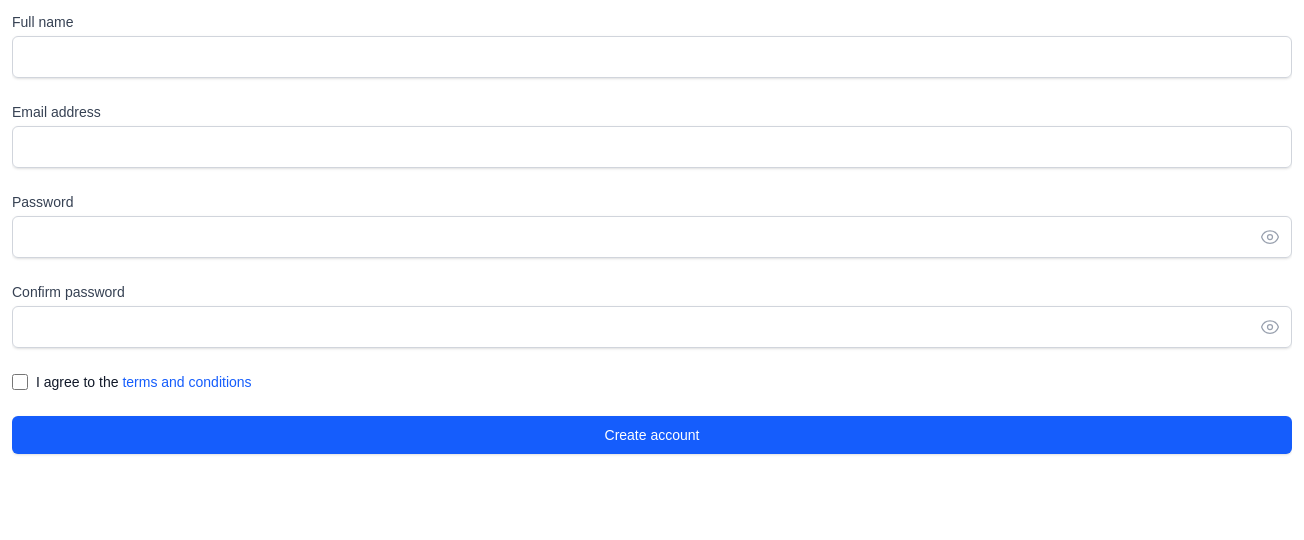
Test: RegisterForm › should require terms and conditions acceptance
# Fill form but don't check terms
Type "John Doe" into the field labelled "Full name". click: (652, 57)
box: [12,36,1292,78]
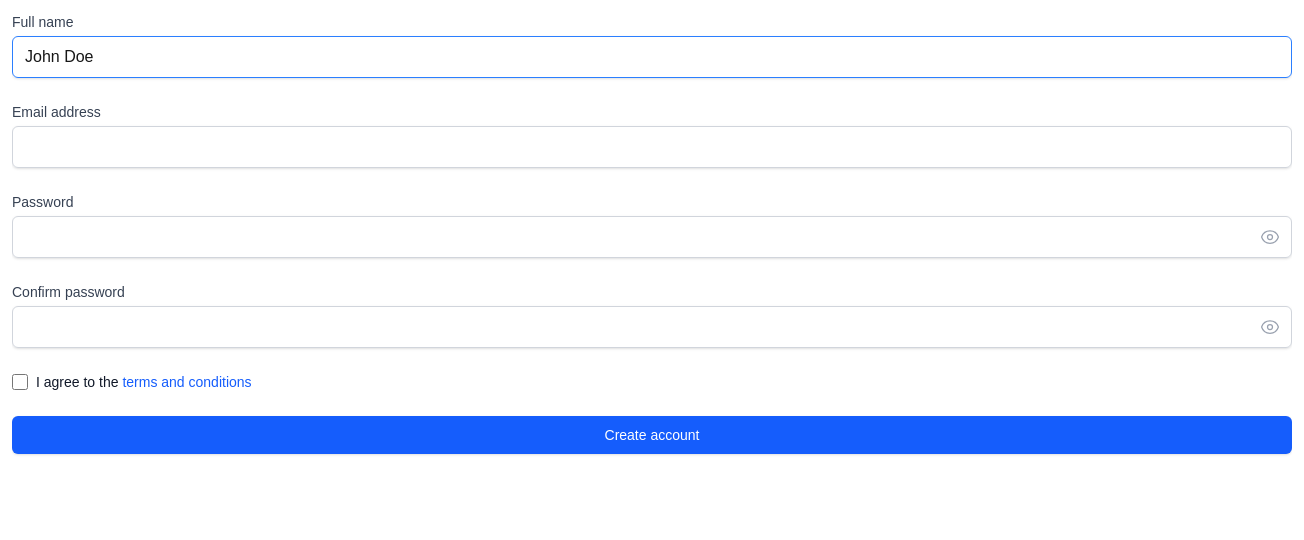
Type "john@example.com" into the field labelled "Email address". click: (652, 147)
box: [12,126,1292,168]
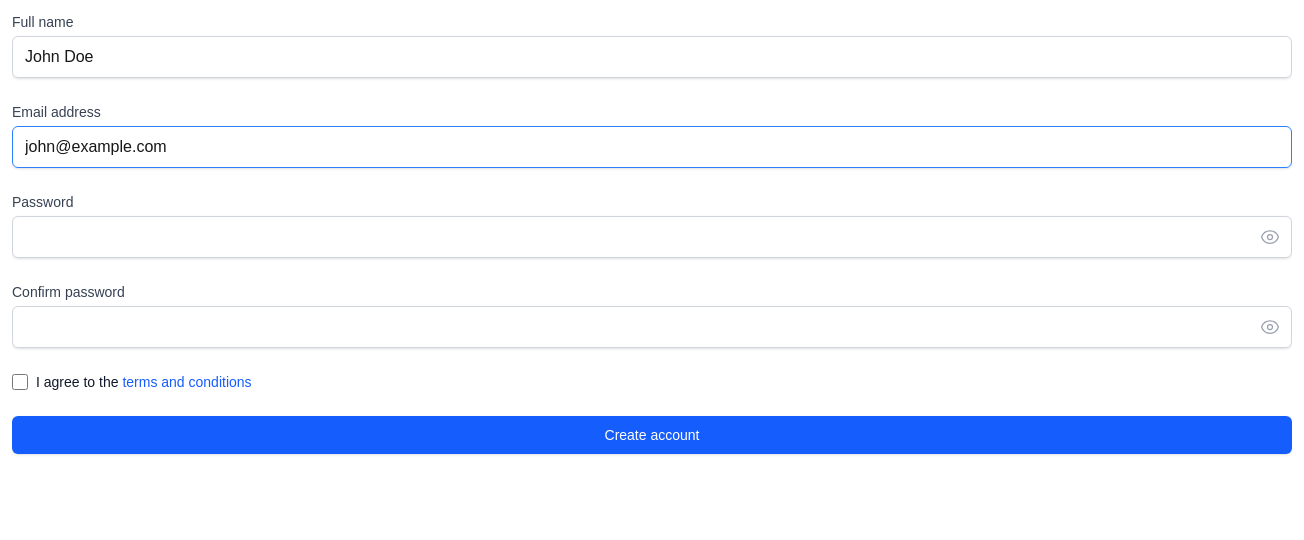
Type "password123" into the password field labelled "Password". click: (652, 237)
box: [12,216,1292,258]
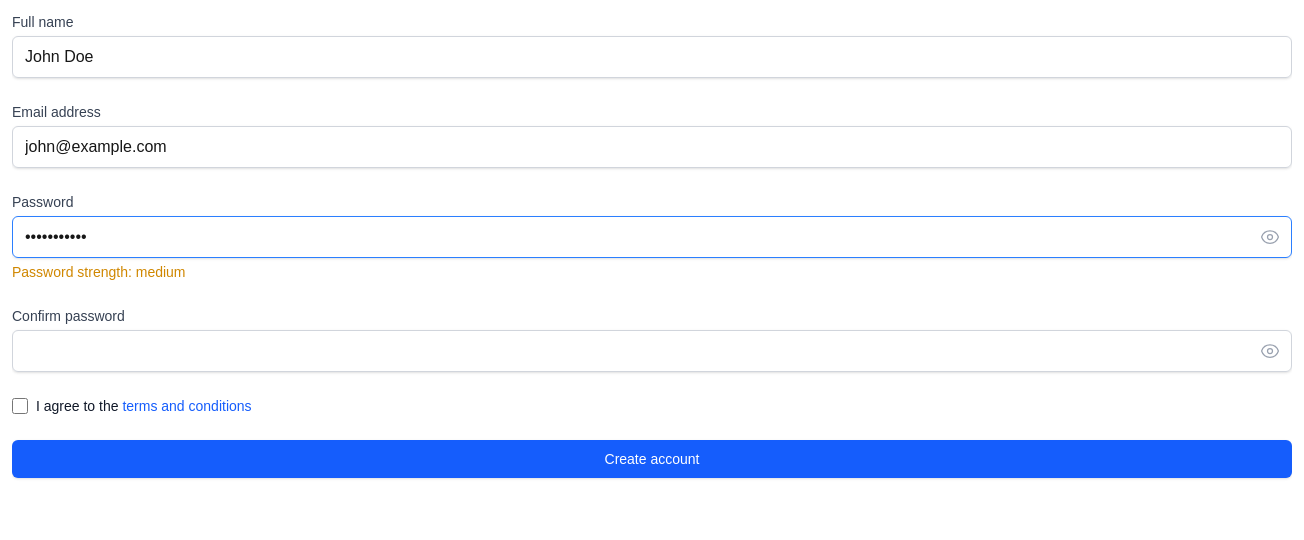
Type "password123" into the password field labelled "Confirm password". click: (652, 351)
box: [12,330,1292,372]
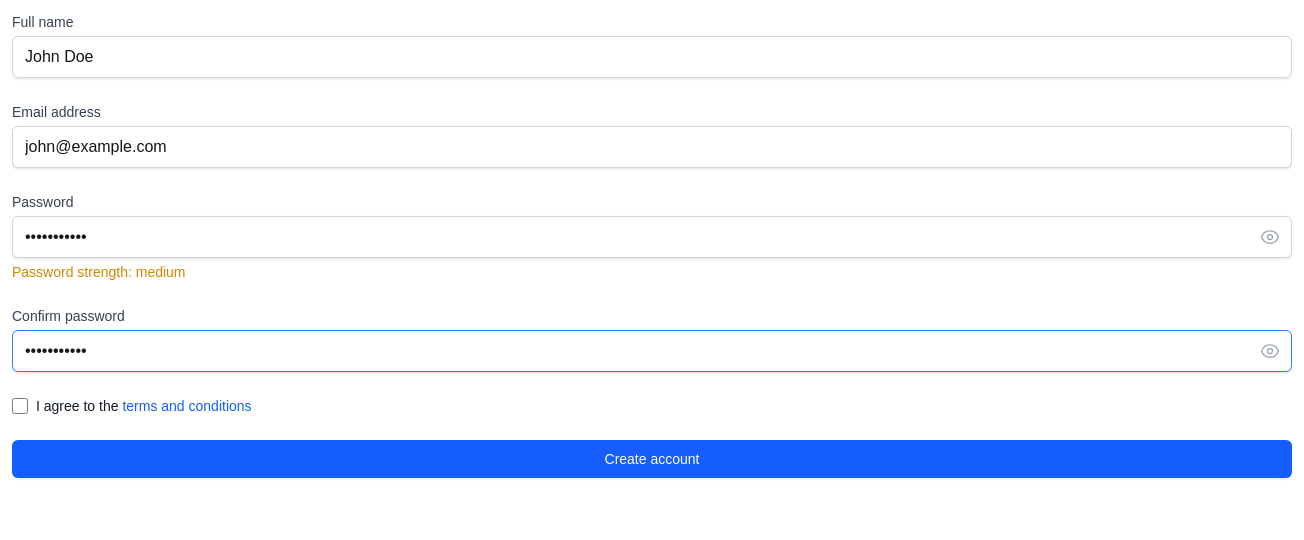
# Don't check the terms checkbox
Click the button "Create account". click: (652, 459)
box: [12,440,1292,478]
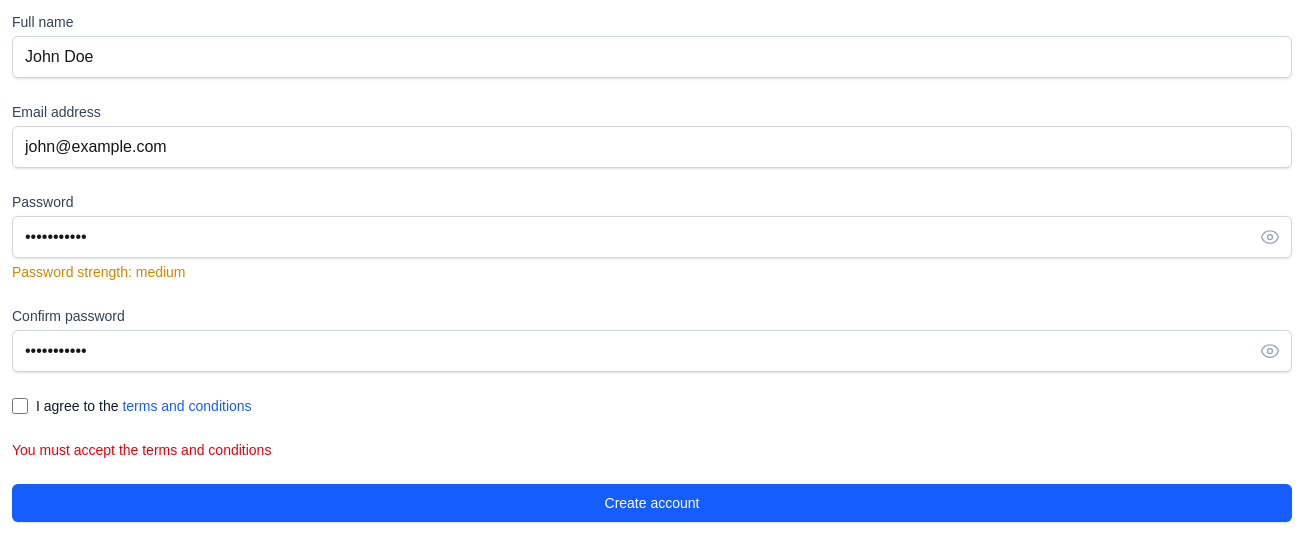
Check: the text "You must accept the terms and conditions" is shown, box [12,442,271,458]
